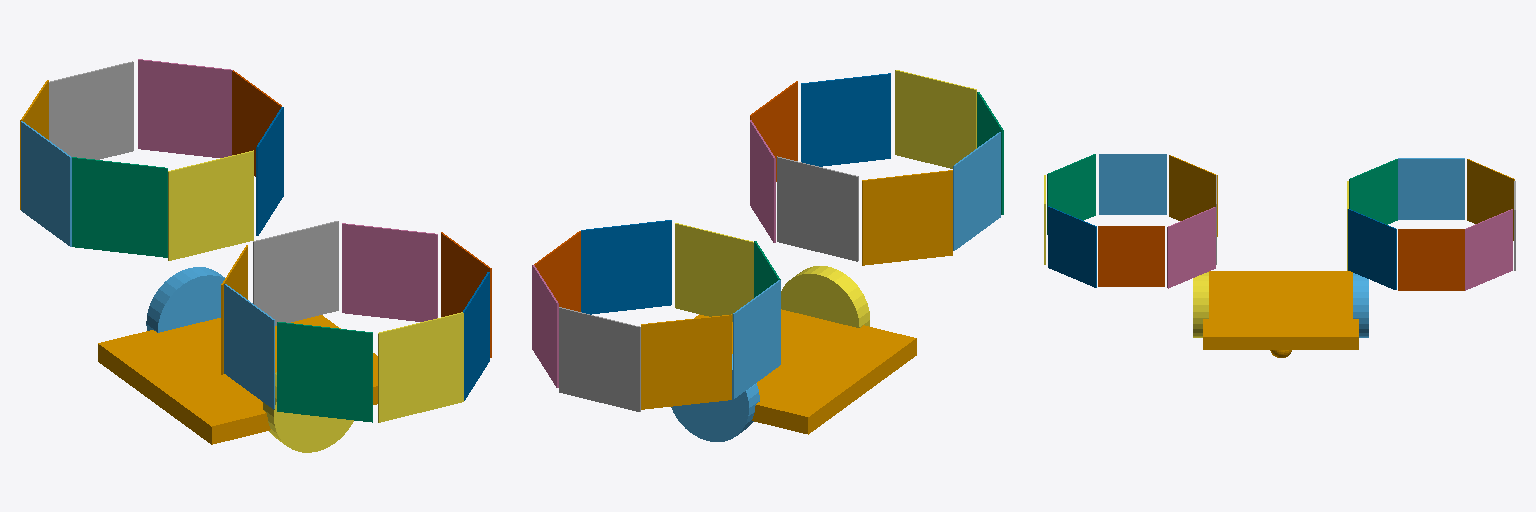
URDF robot description (Leader):
<?xml version="1.0" ?>
<robot name="Leader">

  <joint name="chassis_JOINT_0" type="fixed">
    <parent link="chassis"/>
    <child link="link_0"/>
    <origin rpy="0      -0.00805  0" xyz="1.10000000e-04   8.00000000e-05   1.49380000e-01"/>
    <axis xyz="0  0  0"/>
    <limit effort="0" lower="0" upper="0" velocity="0"/>
  </joint>

  <joint name="left_wheel_joint" type="revolute">
    <parent link="chassis"/>
    <child link="left_wheel"/>
    <origin rpy="1.57  0    0" xyz="-0.0015   0.08377  0.035"/>
    <axis xyz="0.00000000e+00   1.00000000e+00   7.90000000e-04"/>
    <limit effort="-1.0" lower="-1.79769e+308" upper="1.79769e+308" velocity="-1.0"/>
  </joint>
  <joint name="link_0_JOINT_0_0" type="fixed">
    <parent link="link_0"/>
    <child link="29"/>
    <origin rpy="0      -0.00805 -3.14158" xyz="-0.08273  0.15782 -0.05442"/>
    <axis xyz="0  0  0"/>
    <limit effort="0" lower="0" upper="0" velocity="0"/>
  </joint>
  <joint name="link_0_JOINT_0" type="fixed">
    <parent link="link_0"/>
    <child link="21"/>
    <origin rpy="0      -0.00805 -3.14158" xyz="-0.09462 -0.15551 -0.05432"/>
    <axis xyz="0  0  0"/>
    <limit effort="0" lower="0" upper="0" velocity="0"/>
  </joint>
  <joint name="link_0_JOINT_1_0" type="fixed">
    <parent link="link_0"/>
    <child link="22"/>
    <origin rpy="0.00569  0.0057   0.78542" xyz="-0.0692  -0.21997 -0.05453"/>
    <axis xyz="0  0  0"/>
    <limit effort="0" lower="0" upper="0" velocity="0"/>
  </joint>
  <joint name="link_0_JOINT_1_1" type="fixed">
    <parent link="link_0"/>
    <child link="30"/>
    <origin rpy="0.00569  0.0057   0.78542" xyz="-0.05683  0.09679 -0.05463"/>
    <axis xyz="0  0  0"/>
    <limit effort="0" lower="0" upper="0" velocity="0"/>
  </joint>
  <joint name="link_0_JOINT_2_0" type="fixed">
    <parent link="link_0"/>
    <child link="31"/>
    <origin rpy="0.00805  0       1.5708" xyz="0.00358  0.07015 -0.05712"/>
    <axis xyz="0  0  0"/>
    <limit effort="0" lower="0" upper="0" velocity="0"/>
  </joint>
  <joint name="link_0_JOINT_2" type="fixed">
    <parent link="link_0"/>
    <child link="23"/>
    <origin rpy="0.00805  0       1.5708" xyz="-0.00569 -0.24769 -0.05504"/>
    <axis xyz="0  0  0"/>
    <limit effort="0" lower="0" upper="0" velocity="0"/>
  </joint>
  <joint name="link_0_JOINT_3_0" type="fixed">
    <parent link="link_0"/>
    <child link="32"/>
    <origin rpy="0.0057  -0.00569  2.35618" xyz="0.06727  0.09583 -0.05563"/>
    <axis xyz="0  0  0"/>
    <limit effort="0" lower="0" upper="0" velocity="0"/>
  </joint>
  <joint name="link_0_JOINT_3" type="fixed">
    <parent link="link_0"/>
    <child link="24"/>
    <origin rpy="0.0057  -0.00569  2.35618" xyz="0.05671 -0.21896 -0.05754"/>
    <axis xyz="0  0  0"/>
    <limit effort="0" lower="0" upper="0" velocity="0"/>
  </joint>
  <joint name="link_0_JOINT_4_0" type="fixed">
    <parent link="link_0"/>
    <child link="33"/>
    <origin rpy="0       0.00805  0" xyz="0.09223  0.15782 -0.05583"/>
    <axis xyz="0  0  0"/>
    <limit effort="0" lower="0" upper="0" velocity="0"/>
  </joint>
  <joint name="link_0_JOINT_4" type="fixed">
    <parent link="link_0"/>
    <child link="25"/>
    <origin rpy="0       0.00805  0" xyz="0.08423 -0.15717 -0.05576"/>
    <axis xyz="0  0  0"/>
    <limit effort="0" lower="0" upper="0" velocity="0"/>
  </joint>
  <joint name="link_0_JOINT_5_0" type="fixed">
    <parent link="link_0"/>
    <child link="34"/>
    <origin rpy="-0.00569 -0.0057  -2.35616" xyz="0.06777  0.2177  -0.05563"/>
    <axis xyz="0  0  0"/>
    <limit effort="0" lower="0" upper="0" velocity="0"/>
  </joint>
  <joint name="link_0_JOINT_5" type="fixed">
    <parent link="link_0"/>
    <child link="26"/>
    <origin rpy="-0.00569 -0.0057  -2.35616" xyz="0.0576  -0.0939  -0.05773"/>
    <axis xyz="0  0  0"/>
    <limit effort="0" lower="0" upper="0" velocity="0"/>
  </joint>
  <joint name="link_0_JOINT_6_0" type="fixed">
    <parent link="link_0"/>
    <child link="35"/>
    <origin rpy="-0.00805  0      -1.57079" xyz="0.00438  0.24515 -0.05712"/>
    <axis xyz="0  0  0"/>
    <limit effort="0" lower="0" upper="0" velocity="0"/>
  </joint>
  <joint name="link_0_JOINT_6" type="fixed">
    <parent link="link_0"/>
    <child link="27"/>
    <origin rpy="-0.00805  0      -1.57078" xyz="-0.00569 -0.06769 -0.05504"/>
    <axis xyz="0  0  0"/>
    <limit effort="0" lower="0" upper="0" velocity="0"/>
  </joint>
  <joint name="link_0_JOINT_7_0" type="fixed">
    <parent link="link_0"/>
    <child link="36"/>
    <origin rpy="-0.00575  0.00563 -0.7954" xyz="-0.05683  0.21986 -0.05463"/>
    <axis xyz="0  0  0"/>
    <limit effort="0" lower="0" upper="0" velocity="0"/>
  </joint>
  <joint name="link_0_JOINT_7" type="fixed">
    <parent link="link_0"/>
    <child link="28"/>
    <origin rpy="-0.0057   0.00569 -0.7854" xyz="-0.07052 -0.09194 -0.05652"/>
    <axis xyz="0  0  0"/>
    <limit effort="0" lower="0" upper="0" velocity="0"/>
  </joint>
  <joint name="right_wheel_joint" type="revolute">
    <parent link="chassis"/>
    <child link="right_wheel"/>
    <origin rpy="1.57  0    3.14" xyz="-0.0015  -0.08377  0.035"/>
    <axis xyz="0.00000000e+00   1.00000000e+00   7.90000000e-04"/>
    <limit effort="-1.0" lower="-1.79769e+308" upper="1.79769e+308" velocity="-1.0"/>
  </joint>
  <link name="chassis">
    <inertial>
      <mass value="0.00251652"/>
      <origin rpy="0  0  0" xyz="0  0  0"/>
      <inertia ixx="6.31e-06" ixy="0" ixz="0" iyy="0.00020976" iyz="0" izz="0.00021598"/>
    </inertial>
    <collision name="collision">
      <origin rpy="0  0  0" xyz="-0.0015  0      0.027"/>
      <geometry>
        <box size="0.164 0.164 0.014559"/>
      </geometry>
    </collision>
    <visual name="visual">
      <origin rpy="0  0  0" xyz="-0.0015  0      0.027"/>
      <geometry>
        <box size="0.164 0.164 0.014559"/>
      </geometry>
    </visual>
	<collision name='front_caster_collision'>
      <origin rpy="0  0  0" xyz="-0.05199 0 0.012"/>
      <geometry>
        <sphere radius="0.012151"/>
      </geometry>
    </collision>

    <visual name='front_caster_visual'>
      <origin rpy="0  0  0" xyz="-0.05199 0 0.012"/>
      <geometry>
        <sphere radius="0.012151"/>
      </geometry>
    </visual>

	<collision name='back_caster_collision'>
      <origin rpy="0  0  0" xyz="0.05652 0 0.012"/>
      <geometry>
        <sphere radius="0.012151"/>
      </geometry>
    </collision>
    <visual name='back_caster_visual'>
      <origin rpy="0  0  0" xyz="0.05652 0 0.012"/>
      <geometry>
        <sphere radius="0.0121514"/>
      </geometry>
    </visual>																																																												

  </link>
  <link name="21">
    <inertial>
      <mass value="0.0001"/>
      <origin rpy="0  0  0" xyz="0  0  0"/>
      <inertia ixx="0.166667" ixy="0" ixz="0" iyy="0.166667" iyz="0" izz="0.166667"/>
    </inertial>
    <collision name="collision">
      <origin rpy="0  0  0" xyz="0  0  0"/>
      <geometry>
        <mesh filename="package://robot_description/models/leader_id_21/meshes/Leader_ID_21.dae" scale="1.0 1.0 1.0"/>
      </geometry>
    </collision>
    <visual name="visual">
      <origin rpy="0  0  0" xyz="0  0  0"/>
      <geometry>
        <mesh filename="package://robot_description/models/leader_id_21/meshes/Leader_ID_21.dae" scale="0.142 0.142 0.142"/>
      </geometry>
    </visual>
  </link>
  <link name="22">
    <inertial>
      <mass value="0.0001"/>
      <origin rpy="0  0  0" xyz="0  0  0"/>
      <inertia ixx="0.166667" ixy="0" ixz="0" iyy="0.166667" iyz="0" izz="0.166667"/>
    </inertial>
    <collision name="collision">
      <origin rpy="0  0  0" xyz="0  0  0"/>
      <geometry>
        <mesh filename="package://robot_description/models/leader_id_22/meshes/Leader_ID_22.dae" scale="1.0 1.0 1.0"/>
      </geometry>
    </collision>
    <visual name="visual">
      <origin rpy="0  0  0" xyz="0  0  0"/>
      <geometry>
        <mesh filename="package://robot_description/models/leader_id_22/meshes/Leader_ID_22.dae" scale="0.142 0.142 0.142"/>
      </geometry>
    </visual>
  </link>
  <link name="23">
    <inertial>
      <mass value="0.0001"/>
      <origin rpy="0  0  0" xyz="0  0  0"/>
      <inertia ixx="0.166667" ixy="0" ixz="0" iyy="0.166667" iyz="0" izz="0.166667"/>
    </inertial>
    <collision name="collision">
      <origin rpy="0  0  0" xyz="0  0  0"/>
      <geometry>
        <mesh filename="package://robot_description/models/leader_id_23/meshes/Leader_ID_23.dae" scale="1.0 1.0 1.0"/>
      </geometry>
    </collision>
    <visual name="visual">
      <origin rpy="0  0  0" xyz="0  0  0"/>
      <geometry>
        <mesh filename="package://robot_description/models/leader_id_23/meshes/Leader_ID_23.dae" scale="0.142 0.142 0.142"/>
      </geometry>
    </visual>
  </link>
  <link name="24">
    <inertial>
      <mass value="0.0001"/>
      <origin rpy="0  0  0" xyz="0  0  0"/>
      <inertia ixx="0.166667" ixy="0" ixz="0" iyy="0.166667" iyz="0" izz="0.166667"/>
    </inertial>
    <collision name="collision">
      <origin rpy="0  0  0" xyz="0  0  0"/>
      <geometry>
        <mesh filename="package://robot_description/models/leader_id_24/meshes/Leader_ID_24.dae" scale="1.0 1.0 1.0"/>
      </geometry>
    </collision>
    <visual name="visual">
      <origin rpy="0  0  0" xyz="0  0  0"/>
      <geometry>
        <mesh filename="package://robot_description/models/leader_id_24/meshes/Leader_ID_24.dae" scale="0.142 0.142 0.142"/>
      </geometry>
    </visual>
  </link>
  <link name="25">
    <inertial>
      <mass value="0.0001"/>
      <origin rpy="0  0  0" xyz="0  0  0"/>
      <inertia ixx="0.166667" ixy="0" ixz="0" iyy="0.166667" iyz="0" izz="0.166667"/>
    </inertial>
    <collision name="collision">
      <origin rpy="0  0  0" xyz="0  0  0"/>
      <geometry>
        <mesh filename="package://robot_description/models/leader_id_25/meshes/Leader_ID_25.dae" scale="1.0 1.0 1.0"/>
      </geometry>
    </collision>
    <visual name="visual">
      <origin rpy="0  0  0" xyz="0  0  0"/>
      <geometry>
        <mesh filename="package://robot_description/models/leader_id_25/meshes/Leader_ID_25.dae" scale="0.142 0.142 0.142"/>
      </geometry>
    </visual>
  </link>
  <link name="26">
    <inertial>
      <mass value="0.0001"/>
      <origin rpy="0  0  0" xyz="0  0  0"/>
      <inertia ixx="0.166667" ixy="0" ixz="0" iyy="0.166667" iyz="0" izz="0.166667"/>
    </inertial>
    <collision name="collision">
      <origin rpy="0  0  0" xyz="0  0  0"/>
      <geometry>
        <mesh filename="package://robot_description/models/leader_id_26/meshes/Leader_ID_26.dae" scale="1.0 1.0 1.0"/>
      </geometry>
    </collision>
    <visual name="visual">
      <origin rpy="0  0  0" xyz="0  0  0"/>
      <geometry>
        <mesh filename="package://robot_description/models/leader_id_26/meshes/Leader_ID_26.dae" scale="0.142 0.142 0.142"/>
      </geometry>
    </visual>
  </link>
  <link name="27">
    <inertial>
      <mass value="0.0001"/>
      <origin rpy="0  0  0" xyz="0.08917 -0.15633  0.0943"/>
      <inertia ixx="0.166667" ixy="0" ixz="0" iyy="0.166667" iyz="0" izz="0.166667"/>
    </inertial>
    <collision name="collision">
      <origin rpy="0  0  0" xyz="0  0  0"/>
      <geometry>
        <mesh filename="package://robot_description/models/leader_id_27/meshes/Leader_ID_27.dae" scale="1.0 1.0 1.0"/>
      </geometry>
    </collision>
    <visual name="visual">
      <origin rpy="0  0  0" xyz="0  0  0"/>
      <geometry>
        <mesh filename="package://robot_description/models/leader_id_27/meshes/Leader_ID_27.dae" scale="0.142 0.142 0.142"/>
      </geometry>
    </visual>
  </link>
  <link name="28">
    <inertial>
      <mass value="0.0001"/>
      <origin rpy="0  0  0" xyz="0  0  0"/>
      <inertia ixx="0.166667" ixy="0" ixz="0" iyy="0.166667" iyz="0" izz="0.166667"/>
    </inertial>
    <collision name="collision">
      <origin rpy="0  0  0" xyz="0  0  0"/>
      <geometry>
        <mesh filename="package://robot_description/models/leader_id_28/meshes/Leader_ID_28.dae" scale="1.0 1.0 1.0"/>
      </geometry>
    </collision>
    <visual name="visual">
      <origin rpy="0  0  0" xyz="0  0  0"/>
      <geometry>
        <mesh filename="package://robot_description/models/leader_id_28/meshes/Leader_ID_28.dae" scale="0.142 0.142 0.142"/>
      </geometry>
    </visual>
  </link>
  <link name="29">
    <inertial>
      <mass value="0.0001"/>
      <origin rpy="0  0  0" xyz="0  0  0"/>
      <inertia ixx="0.166667" ixy="0" ixz="0" iyy="0.166667" iyz="0" izz="0.166667"/>
    </inertial>
    <collision name="collision">
      <origin rpy="0  0  0" xyz="0  0  0"/>
      <geometry>
        <mesh filename="package://robot_description/models/leader_id_29/meshes/Leader_ID_29.dae" scale="1.0 1.0 1.0"/>
      </geometry>
    </collision>
    <visual name="visual">
      <origin rpy="0  0  0" xyz="0  0  0"/>
      <geometry>
        <mesh filename="package://robot_description/models/leader_id_29/meshes/Leader_ID_29.dae" scale="0.142 0.142 0.142"/>
      </geometry>
    </visual>
  </link>
  <link name="30">
    <inertial>
      <mass value="0.0001"/>
      <origin rpy="0  0  0" xyz="0  0  0"/>
      <inertia ixx="0.166667" ixy="0" ixz="0" iyy="0.166667" iyz="0" izz="0.166667"/>
    </inertial>
    <collision name="collision">
      <origin rpy="0  0  0" xyz="0  0  0"/>
      <geometry>
        <mesh filename="package://robot_description/models/leader_id_30/meshes/Leader_ID_30.dae" scale="1.0 1.0 1.0"/>
      </geometry>
    </collision>
    <visual name="visual">
      <origin rpy="0  0  0" xyz="0  0  0"/>
      <geometry>
        <mesh filename="package://robot_description/models/leader_id_30/meshes/Leader_ID_30.dae" scale="0.142 0.142 0.142"/>
      </geometry>
    </visual>
  </link>
  <link name="31">
    <inertial>
      <mass value="0.0001"/>
      <origin rpy="0  0  0" xyz="0  0  0"/>
      <inertia ixx="0.166667" ixy="0" ixz="0" iyy="0.166667" iyz="0" izz="0.166667"/>
    </inertial>
    <collision name="collision">
      <origin rpy="0  0  0" xyz="0  0  0"/>
      <geometry>
        <mesh filename="package://robot_description/models/leader_id_31/meshes/Leader_ID_31.dae" scale="1.0 1.0 1.0"/>
      </geometry>
    </collision>
    <visual name="visual">
      <origin rpy="0  0  0" xyz="0  0  0"/>
      <geometry>
        <mesh filename="package://robot_description/models/leader_id_31/meshes/Leader_ID_31.dae" scale="0.142 0.142 0.142"/>
      </geometry>
    </visual>
  </link>
  <link name="32">
    <inertial>
      <mass value="0.0001"/>
      <origin rpy="0  0  0" xyz="0  0  0"/>
      <inertia ixx="0.166667" ixy="0" ixz="0" iyy="0.166667" iyz="0" izz="0.166667"/>
    </inertial>
    <collision name="collision">
      <origin rpy="0  0  0" xyz="0  0  0"/>
      <geometry>
        <mesh filename="package://robot_description/models/leader_id_32/meshes/Leader_ID_32.dae" scale="1.0 1.0 1.0"/>
      </geometry>
    </collision>
    <visual name="visual">
      <origin rpy="0  0  0" xyz="0  0  0"/>
      <geometry>
        <mesh filename="package://robot_description/models/leader_id_32/meshes/Leader_ID_32.dae" scale="0.142 0.142 0.142"/>
      </geometry>
    </visual>
  </link>
  <link name="33">
    <inertial>
      <mass value="0.0001"/>
      <origin rpy="0  0  0" xyz="0  0  0"/>
      <inertia ixx="0.166667" ixy="0" ixz="0" iyy="0.166667" iyz="0" izz="0.166667"/>
    </inertial>
    <collision name="collision">
      <origin rpy="0  0  0" xyz="0  0  0"/>
      <geometry>
        <mesh filename="package://robot_description/models/leader_id_33/meshes/Leader_ID_33.dae" scale="1.0 1.0 1.0"/>
      </geometry>
    </collision>
    <visual name="visual">
      <origin rpy="0  0  0" xyz="0  0  0"/>
      <geometry>
        <mesh filename="package://robot_description/models/leader_id_33/meshes/Leader_ID_33.dae" scale="0.142 0.142 0.142"/>
      </geometry>
    </visual>
  </link>
  <link name="34">
    <inertial>
      <mass value="0.0001"/>
      <origin rpy="0  0  0" xyz="0  0  0"/>
      <inertia ixx="0.166667" ixy="0" ixz="0" iyy="0.166667" iyz="0" izz="0.166667"/>
    </inertial>
    <collision name="collision">
      <origin rpy="0  0  0" xyz="0  0  0"/>
      <geometry>
        <mesh filename="package://robot_description/models/leader_id_34/meshes/Leader_ID_34.dae" scale="1.0 1.0 1.0"/>
      </geometry>
    </collision>
    <visual name="visual">
      <origin rpy="0  0  0" xyz="0  0  0"/>
      <geometry>
        <mesh filename="package://robot_description/models/leader_id_34/meshes/Leader_ID_34.dae" scale="0.142 0.142 0.142"/>
      </geometry>
    </visual>
  </link>
  <link name="35">
    <inertial>
      <mass value="0.0001"/>
      <origin rpy="0  0  0" xyz="0  0  0"/>
      <inertia ixx="0.166667" ixy="0" ixz="0" iyy="0.166667" iyz="0" izz="0.166667"/>
    </inertial>
    <collision name="collision">
      <origin rpy="0  0  0" xyz="0  0  0"/>
      <geometry>
        <mesh filename="package://robot_description/models/leader_id_35/meshes/Leader_ID_35.dae" scale="1.0 1.0 1.0"/>
      </geometry>
    </collision>
    <visual name="visual">
      <origin rpy="0  0  0" xyz="0  0  0"/>
      <geometry>
        <mesh filename="package://robot_description/models/leader_id_35/meshes/Leader_ID_35.dae" scale="0.142 0.142 0.142"/>
      </geometry>
    </visual>
  </link>
  <link name="36">
    <inertial>
      <mass value="0.0001"/>
      <origin rpy="0  0  0" xyz="0  0  0"/>
      <inertia ixx="0.166667" ixy="0" ixz="0" iyy="0.166667" iyz="0" izz="0.166667"/>
    </inertial>
    <collision name="collision">
      <origin rpy="0  0  0" xyz="0  0  0"/>
      <geometry>
        <mesh filename="package://robot_description/models/leader_id_36/meshes/Leader_ID_36.dae" scale="1.0 1.0 1.0"/>
      </geometry>
    </collision>
    <visual name="visual">
      <origin rpy="0  0  0" xyz="0  0  0"/>
      <geometry>
        <mesh filename="package://robot_description/models/leader_id_36/meshes/Leader_ID_36.dae" scale="0.142 0.142 0.142"/>
      </geometry>
    </visual>
  </link>
  
  
  <link name="left_wheel">
    <inertial>
      <mass value="8.439e-05"/>
      <origin rpy="0  0  0" xyz="0  0  0"/>
      <inertia ixx="3e-08" ixy="0" ixz="0" iyy="3e-08" iyz="0" izz="5e-08"/>
    </inertial>
    <collision name="collision">
      <origin rpy="0  0  0" xyz="0  0  0"/>
      <geometry>
        <cylinder length="0.016404" radius="0.035867"/>
      </geometry>
    </collision>
    <visual name="visual">
      <origin rpy="0  0  0" xyz="0  0  0"/>
      <geometry>
        <cylinder length="0.0164037" radius="0.0358674"/>
      </geometry>
    </visual>
  </link>
  <link name="link_0">
    <inertial>
      <mass value="0.18"/>
      <origin rpy="0  0  0" xyz="0  0  0"/>
      <inertia ixx="0.166667" ixy="0" ixz="0" iyy="0.166667" iyz="0" izz="0.166667"/>
    </inertial>
    <collision name="collision">
      <origin rpy="0  0  0" xyz="0  0  0"/>
      <geometry>
        <mesh filename="package://robot_description/meshes/leader-hat-new.stl" scale="1.0 1.0 1.0"/>
      </geometry>
    </collision>
    <visual name="visual">
      <origin rpy="0  0  0" xyz="0  0  0"/>
      <geometry>
        <mesh filename="package://robot_description/meshes/leader-hat-new.stl" scale="1.0 1.0 1.0"/>
      </geometry>
    </visual>
  </link>
  <link name="right_wheel">
    <inertial>
      <mass value="8.439e-05"/>
      <origin rpy="0  0  0" xyz="0  0  0"/>
      <inertia ixx="3e-08" ixy="0" ixz="0" iyy="3e-08" iyz="0" izz="5e-08"/>
    </inertial>
    <collision name="collision">
      <origin rpy="0  0  0" xyz="0  0  0"/>
      <geometry>
        <cylinder length="0.016404" radius="0.035867"/>
      </geometry>
    </collision>
    <visual name="visual">
      <origin rpy="0  0  0" xyz="0  0  0"/>
      <geometry>
        <cylinder length="0.0164037" radius="0.0358674"/>
      </geometry>
    </visual>
  </link>
</robot>

--- What the picture shows (computed from the rendered views, not written in the file) ---
The picture shows the robot from 3 angles, left to right: view 1: azimuth 30°, elevation 25°; view 2: azimuth 150°, elevation 25°; view 3: azimuth 270°, elevation 25°; orthographic projection.
Robot: Leader — 20 links, 19 joints (2 revolute, 17 fixed); root link chassis; default pose: every joint at zero.
Visible links, largest first — view 1: chassis, 30, 22, 26, 34, 23, 31, 27, 35, 21, 29, left_wheel (+7 smaller); view 2: chassis, 28, 36, 32, 24, 27, 35, 23, 31, 29, 21, right_wheel (+7 smaller); view 3: chassis, 29, 33, 21, 25, 24, 26, 32, 34, 22, 28, 30 (+3 smaller).
Link boxes in pixels (bbox=[...]): chassis: bbox=[98, 315, 377, 444]; 30: bbox=[72, 157, 167, 257]; 22: bbox=[277, 322, 372, 422]; 26: bbox=[342, 223, 437, 321]; 34: bbox=[138, 59, 232, 157]; 23: bbox=[378, 312, 463, 422]; 31: bbox=[168, 150, 253, 260]; 27: bbox=[253, 221, 338, 325]; 35: bbox=[49, 61, 133, 159]; 21: bbox=[224, 284, 274, 409]; 29: bbox=[21, 121, 71, 246]; left_wheel: bbox=[146, 267, 224, 332]; chassis: bbox=[695, 309, 916, 434]; 28: bbox=[862, 170, 952, 265]; 36: bbox=[641, 314, 731, 409]; 32: bbox=[581, 220, 671, 314]; 24: bbox=[801, 73, 890, 166]; 27: bbox=[777, 156, 858, 261]; 35: bbox=[559, 307, 640, 411]; 23: bbox=[895, 70, 976, 168]; 31: bbox=[675, 223, 753, 321]; 29: bbox=[733, 280, 780, 398]; 21: bbox=[953, 132, 1000, 250]; right_wheel: bbox=[781, 266, 869, 327]; chassis: bbox=[1203, 271, 1358, 357]; 29: bbox=[1398, 158, 1464, 219]; 33: bbox=[1398, 229, 1464, 290]; 21: bbox=[1099, 154, 1166, 214]; 25: bbox=[1098, 226, 1164, 286]; 24: bbox=[1048, 206, 1096, 287]; 26: bbox=[1167, 207, 1215, 288]; 32: bbox=[1348, 209, 1396, 289]; 34: bbox=[1465, 209, 1512, 290]; 22: bbox=[1047, 154, 1095, 234]; 28: bbox=[1169, 155, 1217, 236]; 30: bbox=[1349, 159, 1397, 224].
Bounding box of the posed robot: 0.1895 × 0.4943 × 0.1662 m (x, y, z).
16 mesh visuals loaded from 17 distinct referenced files (16 Collada DAE); not drawn: 1 (reference not matched to a file when rendering).